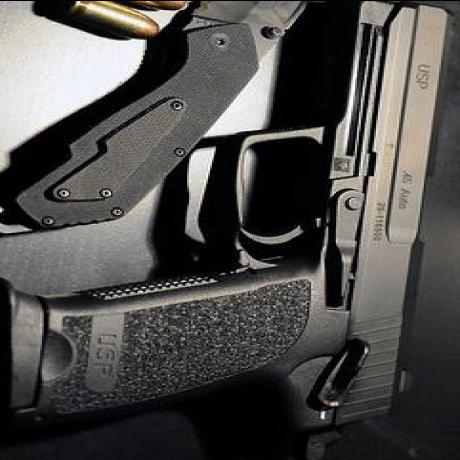weapon: (0, 2, 458, 456), (0, 2, 314, 234)
